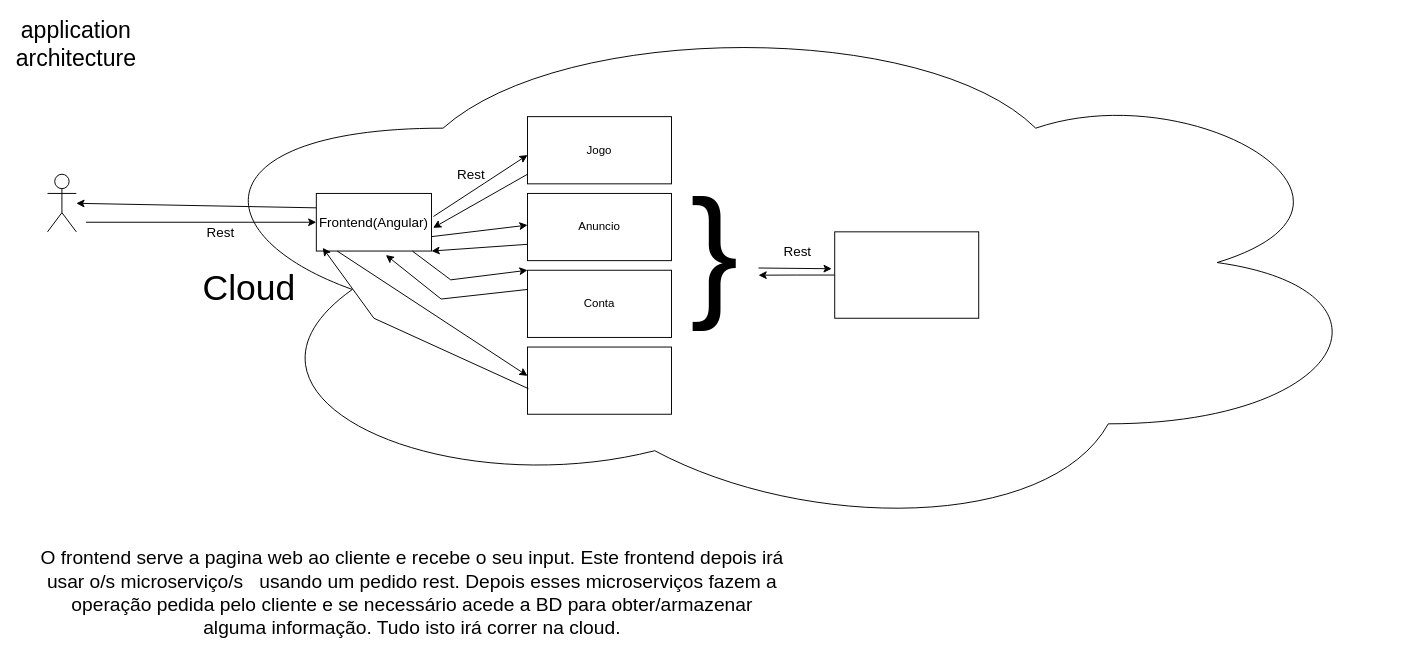
Some shapes in this 1428 by 654 pixel diagram are drawn without their labels. Each missing label, with the centre of its shape:
Actor: pixel 61 202
BD(Mongo): pixel 906 274
Filme: pixel 599 380
